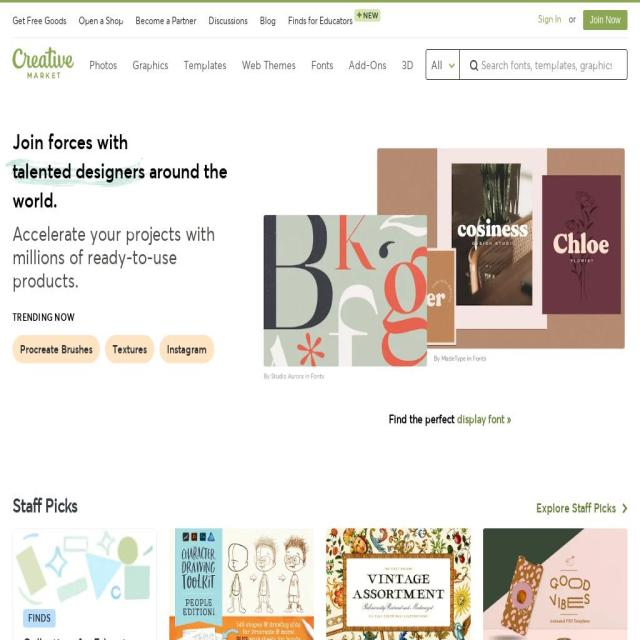button: (169, 527, 313, 640), (326, 527, 470, 640), (483, 527, 627, 640), (13, 559, 156, 625), (12, 334, 100, 364), (536, 499, 628, 518), (160, 334, 214, 364), (105, 334, 154, 364), (288, 16, 381, 27), (583, 10, 628, 30), (242, 58, 296, 72), (184, 58, 226, 72), (349, 58, 386, 72), (133, 58, 168, 72), (89, 58, 117, 72), (311, 58, 333, 72), (538, 15, 562, 25), (402, 58, 413, 72)
field: (480, 50, 628, 80)
heading: (12, 222, 240, 294), (12, 161, 228, 212), (13, 158, 145, 188), (13, 132, 128, 154), (12, 312, 220, 324), (12, 494, 78, 520), (23, 636, 146, 640)
image: (258, 141, 628, 387), (169, 527, 313, 640), (326, 527, 470, 640), (483, 527, 627, 640), (12, 528, 157, 606)
link: (457, 413, 511, 426), (136, 16, 196, 27), (12, 16, 66, 27), (79, 16, 123, 27), (208, 16, 248, 27), (260, 16, 276, 27)
text: (12, 47, 74, 83), (536, 502, 616, 515), (426, 50, 459, 80), (20, 343, 92, 356), (388, 413, 458, 426), (288, 16, 354, 27), (23, 610, 56, 628), (167, 343, 207, 356), (112, 343, 147, 356), (354, 9, 380, 22), (568, 10, 576, 30)
